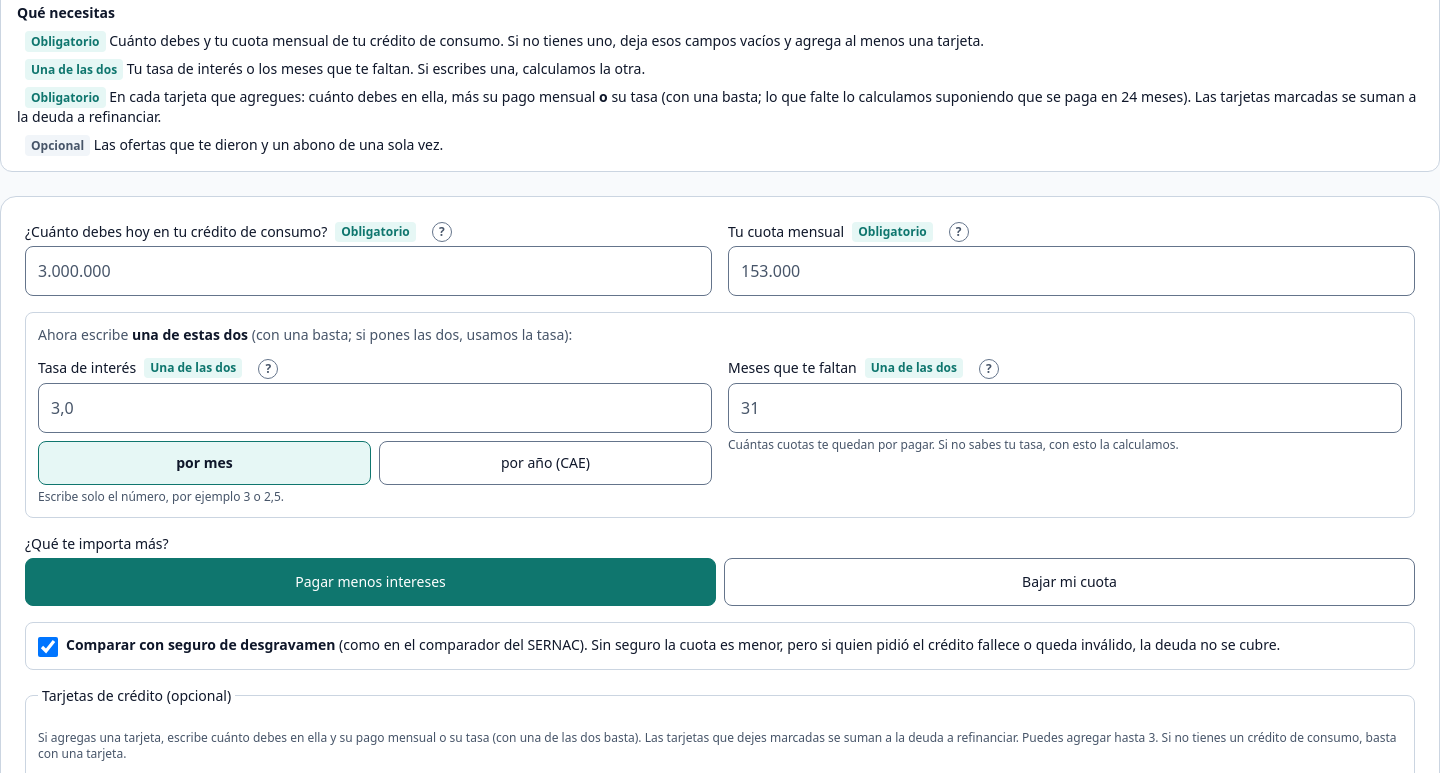
Resultado › gráficos con los mismos datos en texto (no dependen del color)
Type "3000000" into the field labelled "¿Cuánto debes hoy en tu crédito de consumo?" at (368, 271), box [25,246,712,296]
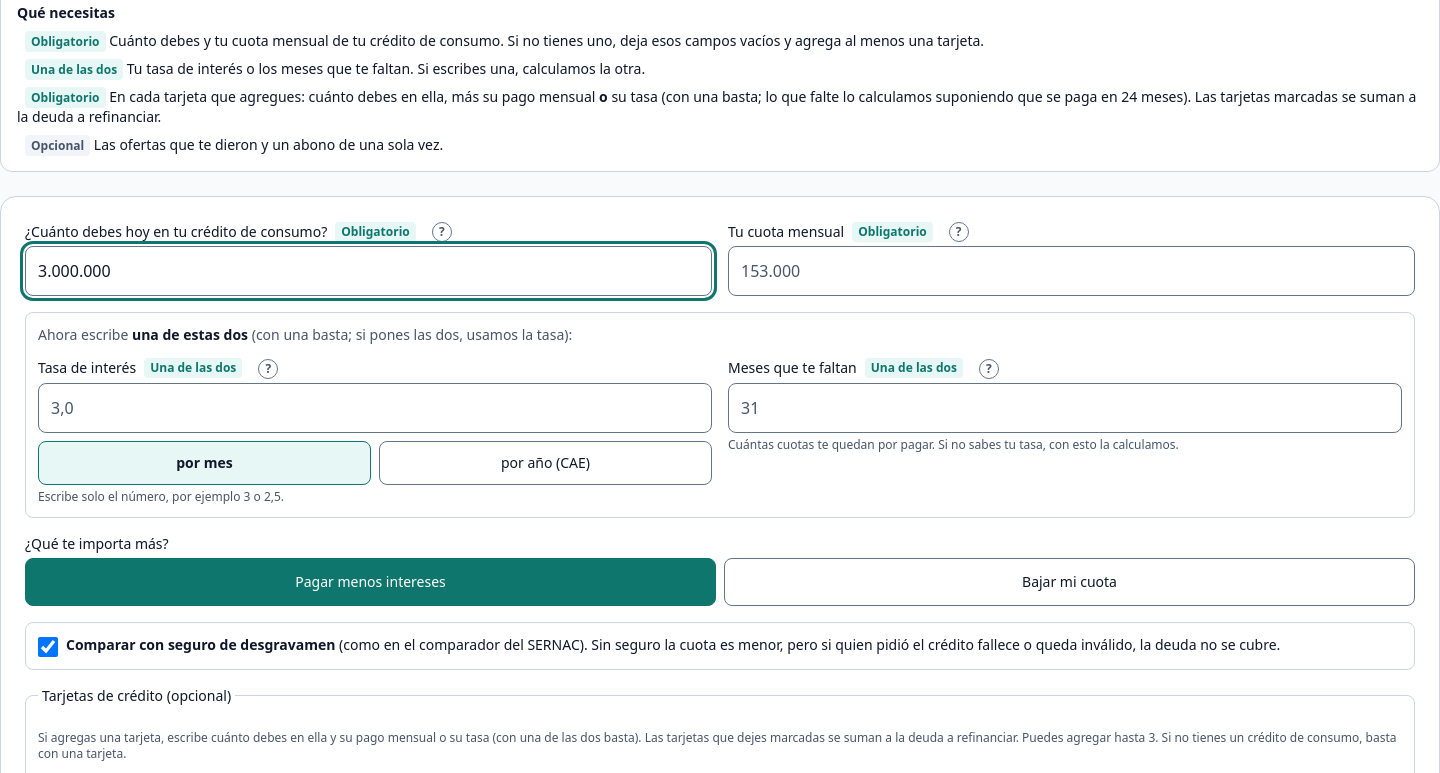
Type "153000" into the field labelled "Tu cuota mensual" at (1072, 271), box [728,246,1415,296]
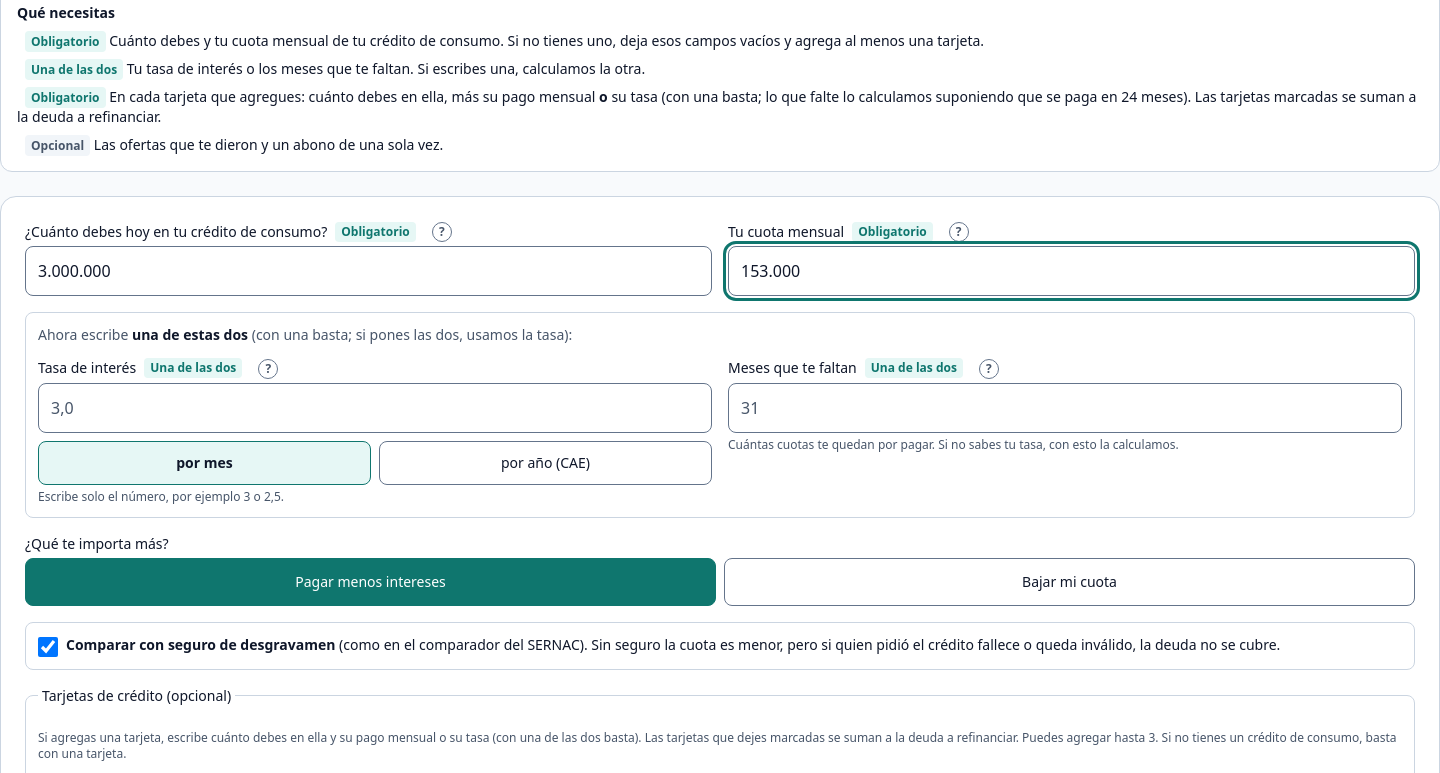
Type "3" into the field labelled "Tasa de interés" at (375, 408), box [38,382,712,432]
(page scrolled)
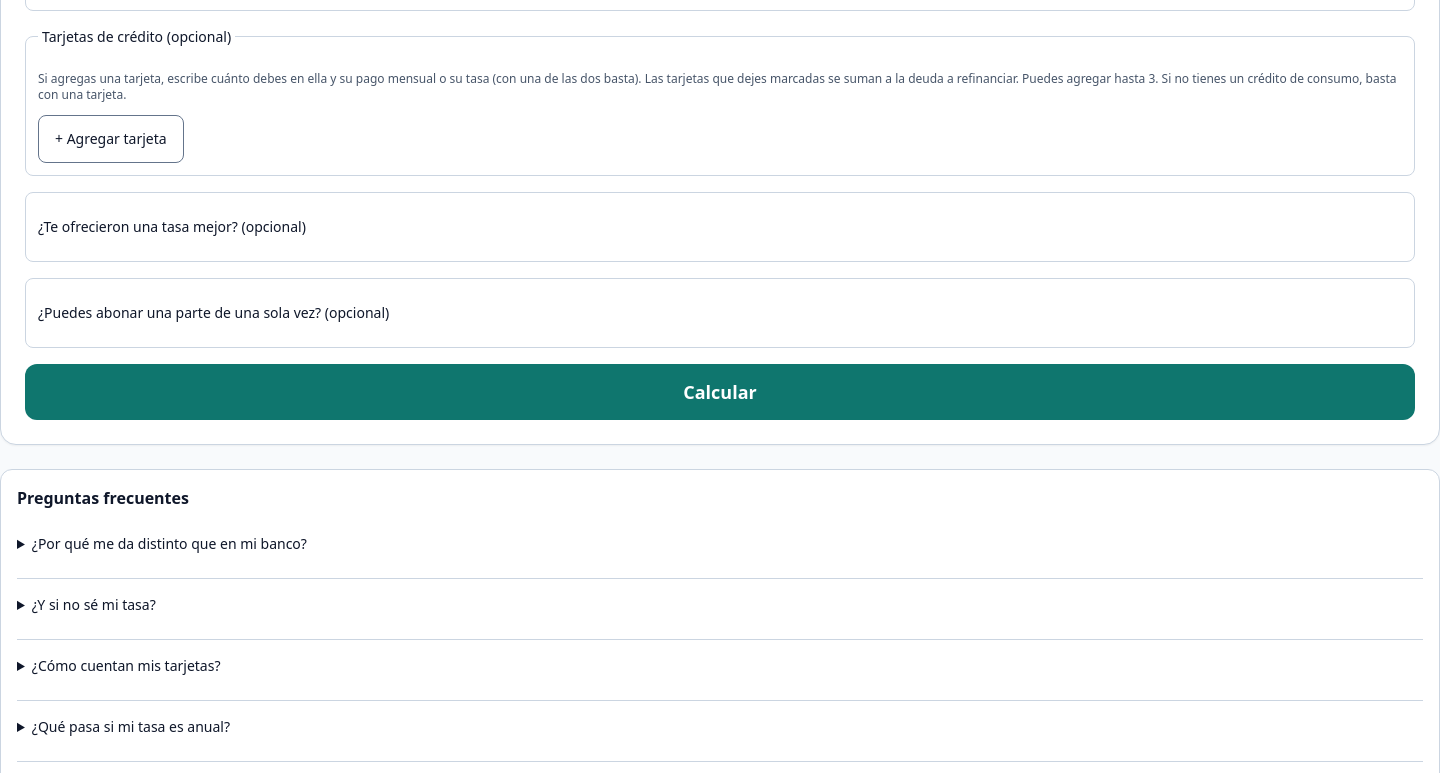
Click the button "Calcular" at (720, 392), box [25,364,1415,420]
(page scrolled)
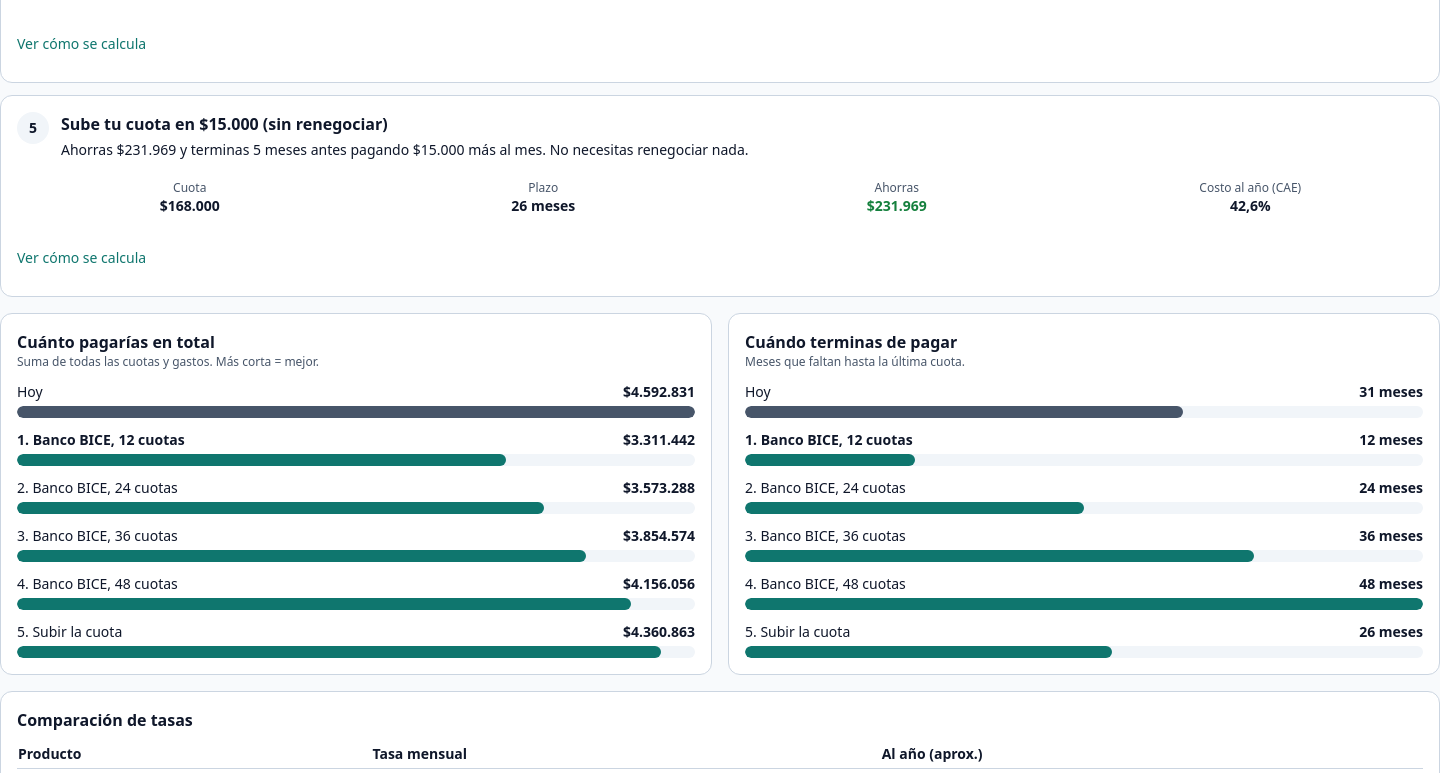
Expected: the text "Hoy" below "Cuánto pagarías en total" is shown, [17,382,43,400]
